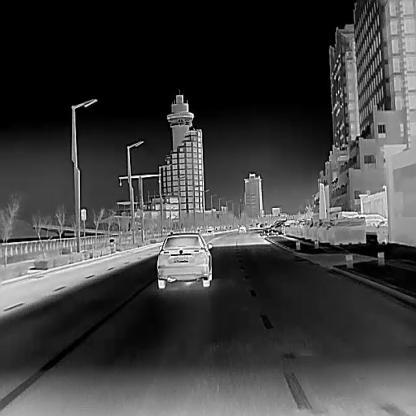car: (156, 231, 211, 288), (349, 214, 388, 235), (239, 224, 246, 234)
